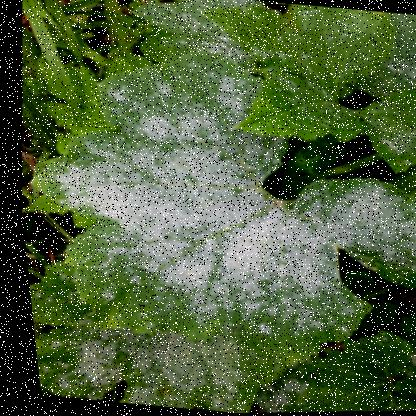PowderyMildew: (89, 108, 258, 309), (129, 195, 347, 332)
